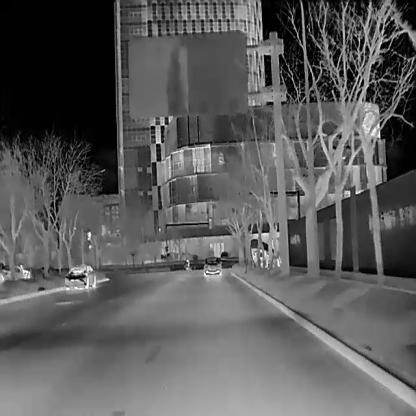car: (63, 262, 96, 292), (1, 264, 30, 280), (202, 256, 222, 276)
